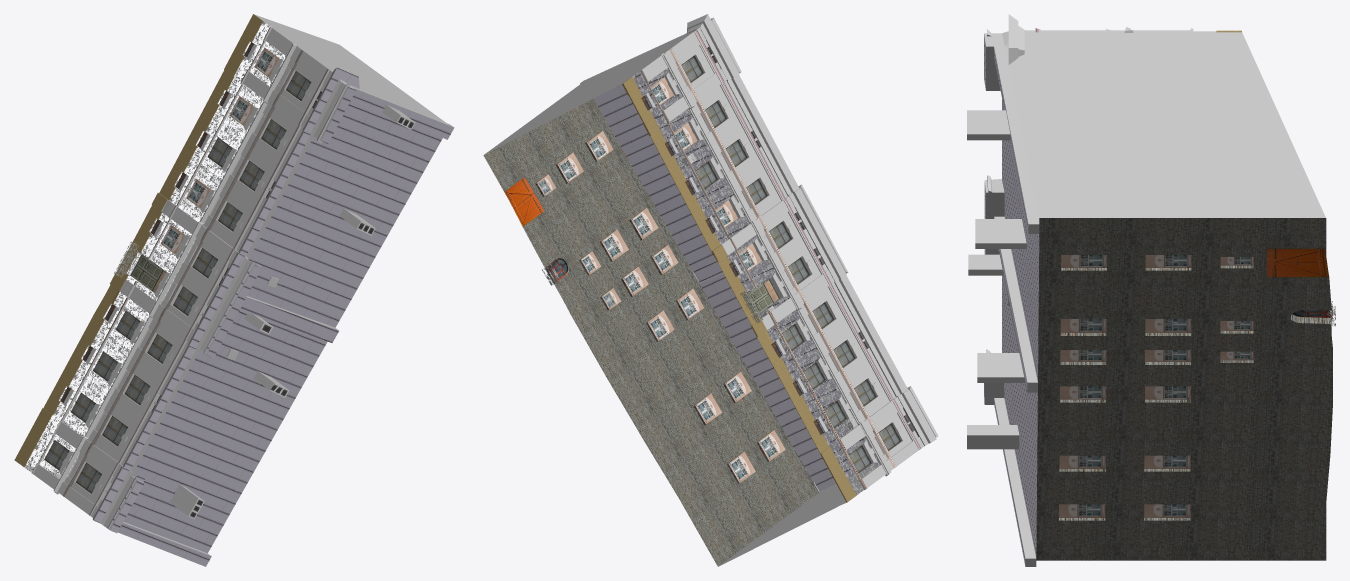
The model's file is Olevimagi_10.obj.
3 renders of one model, left to right at view 1: azimuth 30°, elevation 25°; view 2: azimuth 150°, elevation 25°; view 3: azimuth 270°, elevation 25°, orthographic. The views are drawn at different scales.
Parts seen in each view (by area): view 1: polySurface33; view 2: polySurface33; view 3: polySurface33.
Boxes of the visible parts, bbox=[...] form: polySurface33: bbox=[14, 14, 454, 566]; polySurface33: bbox=[483, 14, 938, 566]; polySurface33: bbox=[967, 14, 1335, 566].
Bounding box in the file's own units: 27.68 × 33.99 × 17.89.
